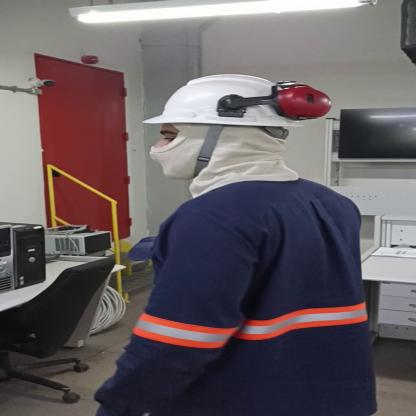Balaclava: (135, 122, 308, 192)
Capacete: (130, 72, 336, 133)
